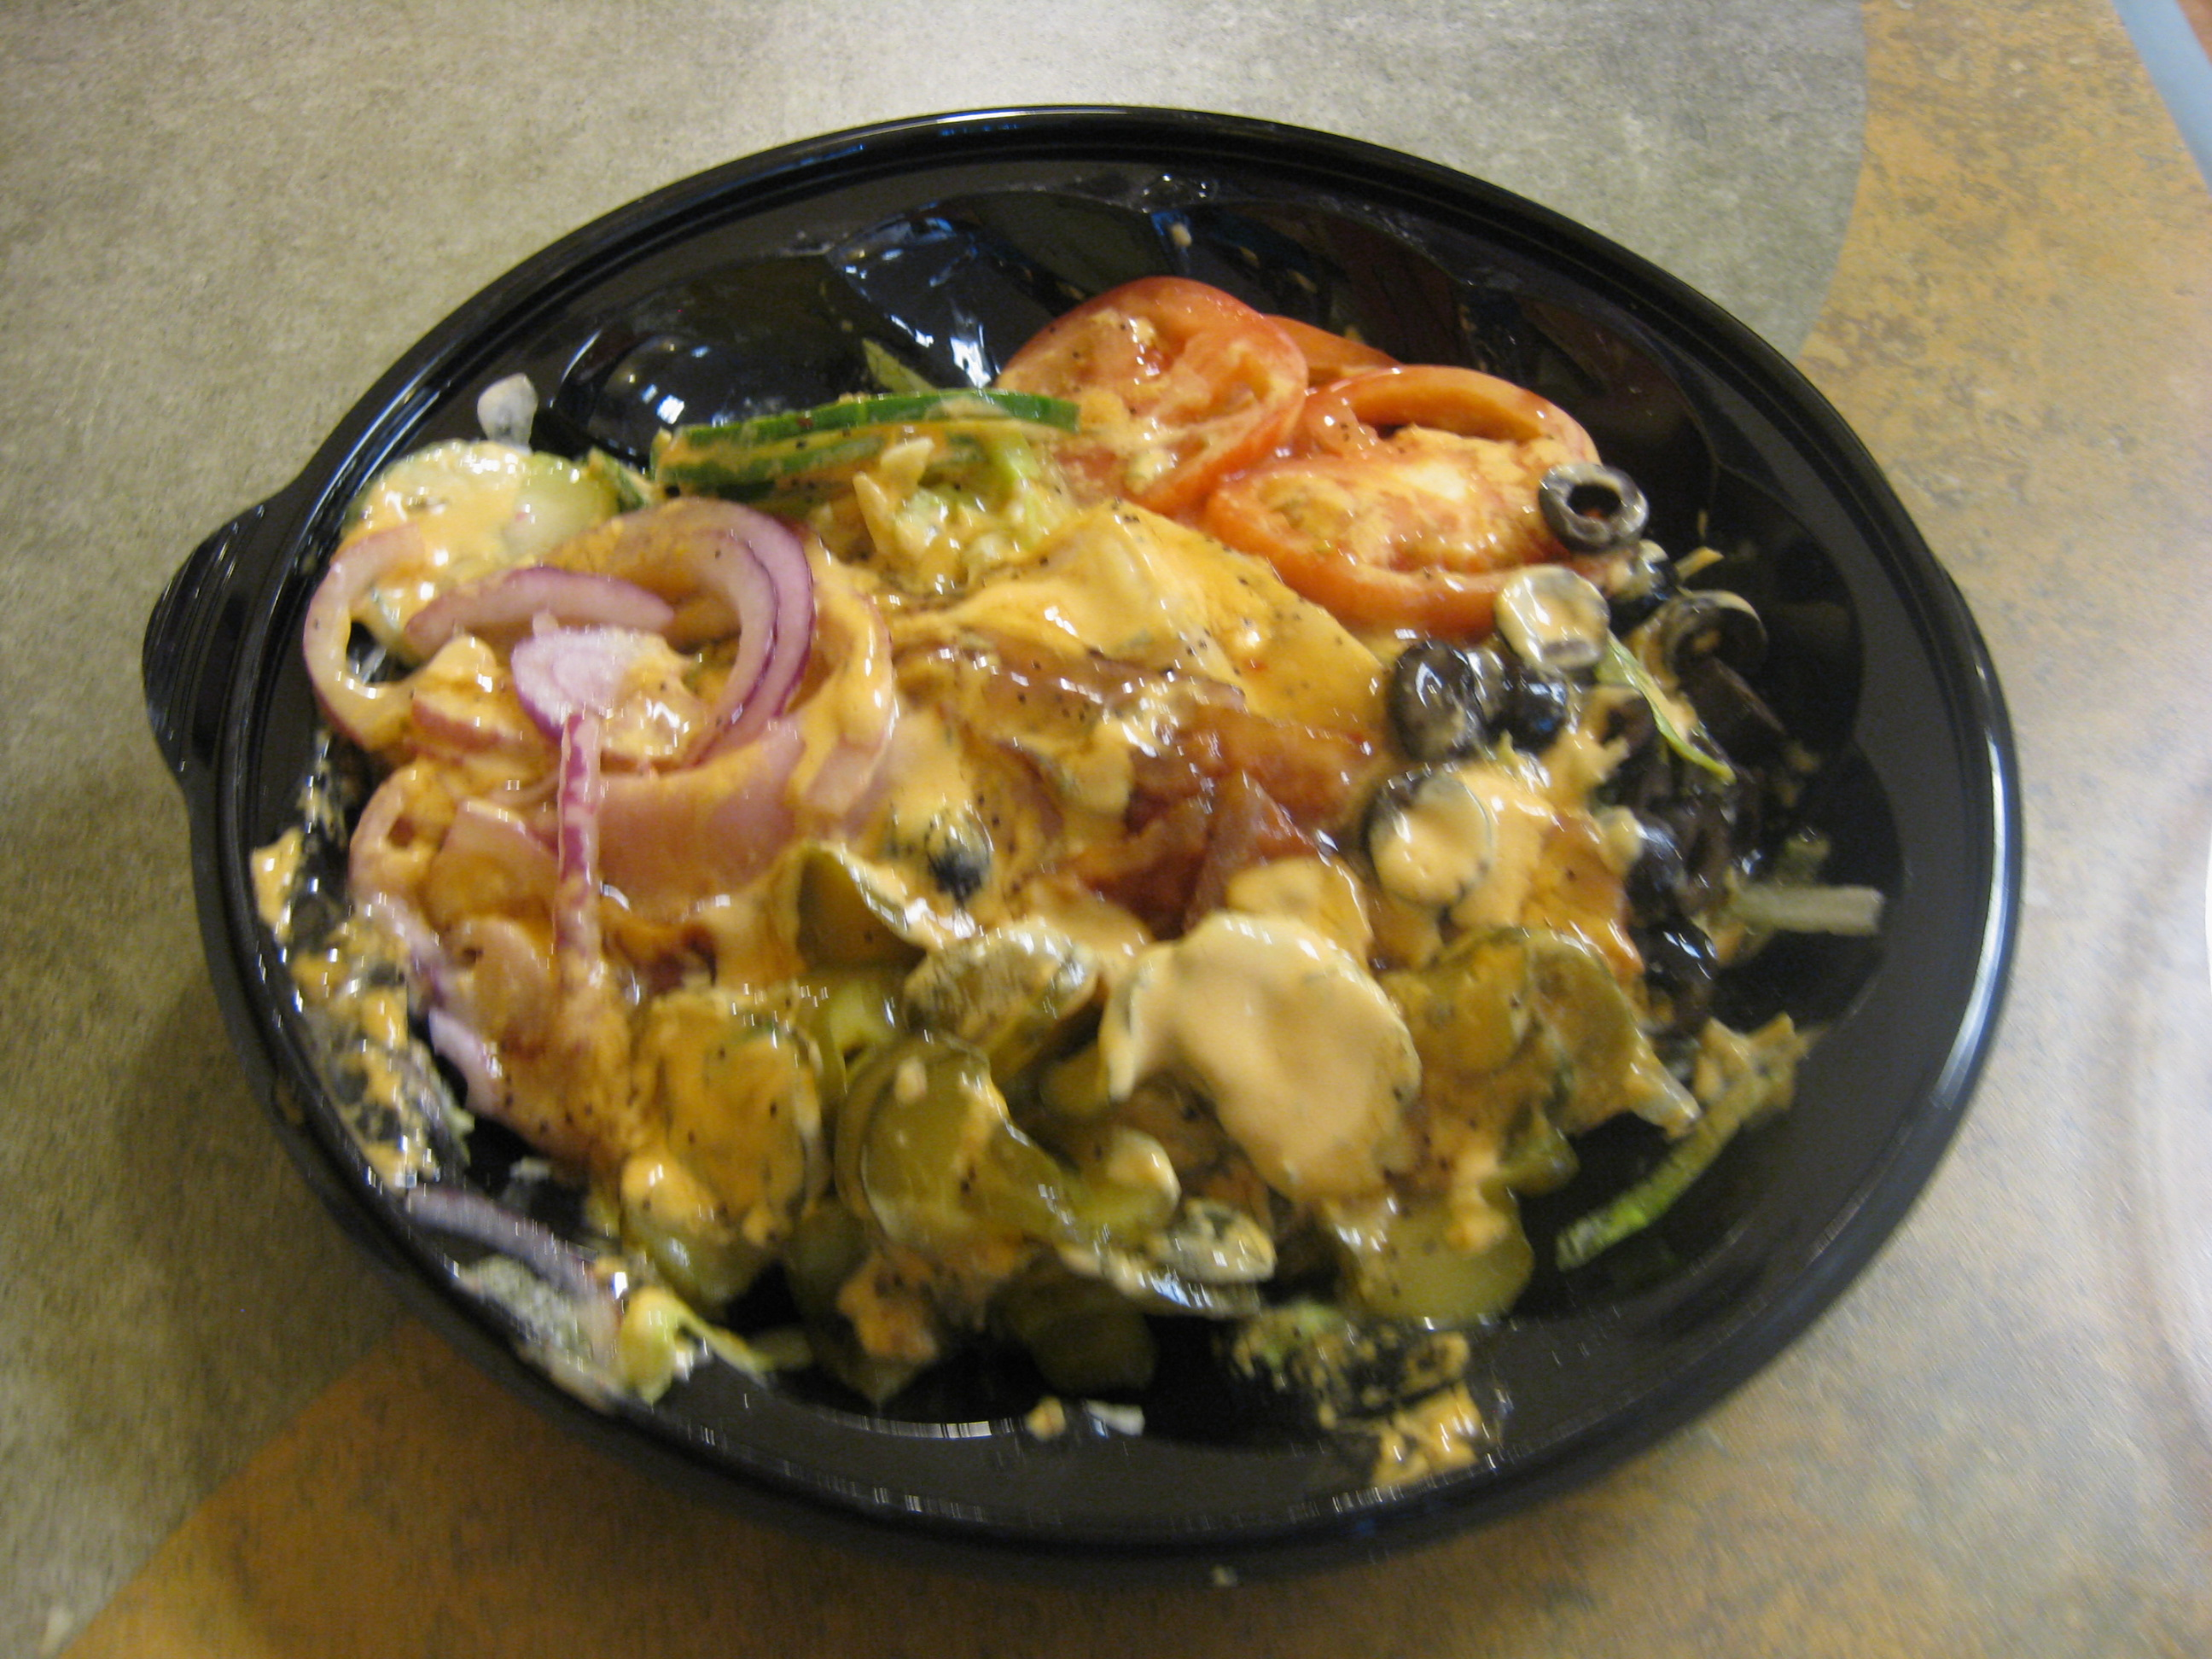salad: (302, 285, 1953, 1422)
